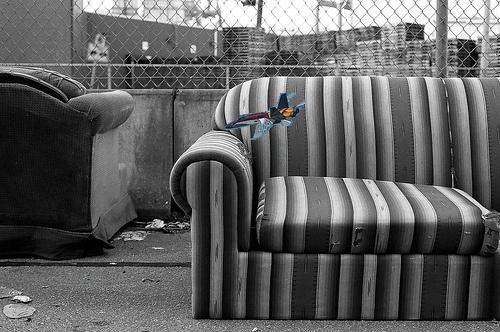tampered: (226, 93, 306, 140)
